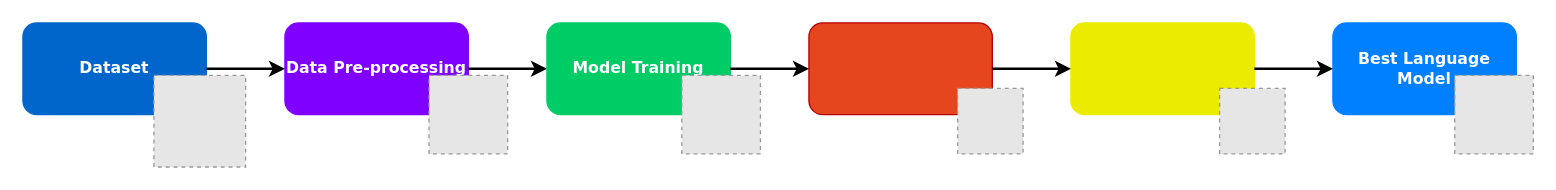
Image size: 1556x190. Some labels were removed from this diagram. Grey dashed boxes stand in for pictures. Each missing label, with the centre of its shape:
Hyper Parameter Tuning: [1162,68]
Model Evaluation: [900,68]
